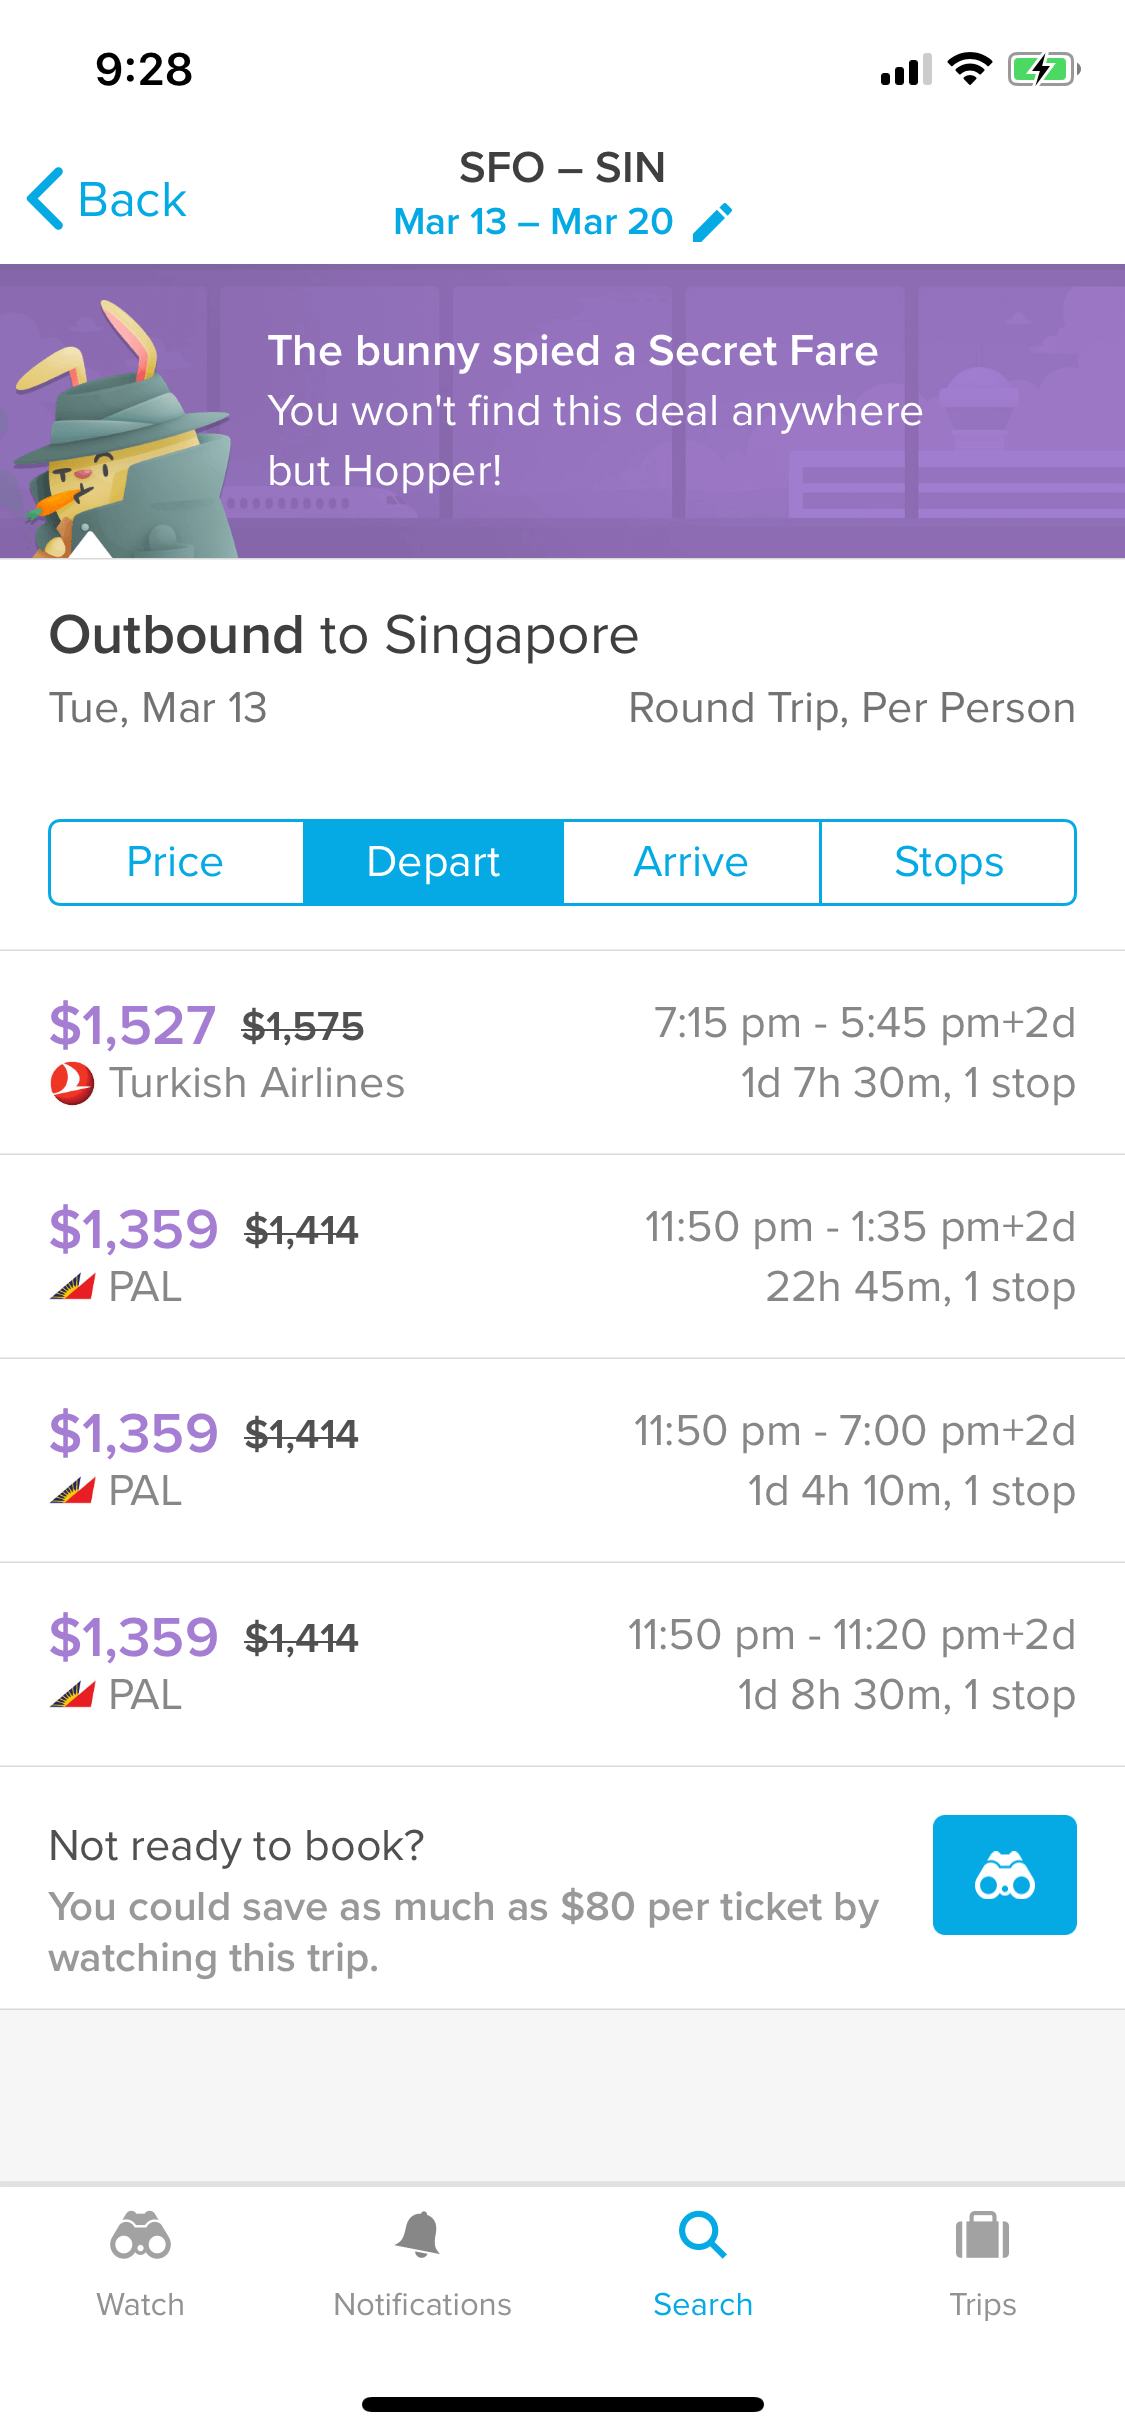Buttons: (9, 132, 221, 253), (925, 1801, 1088, 1944), (681, 180, 749, 250)
